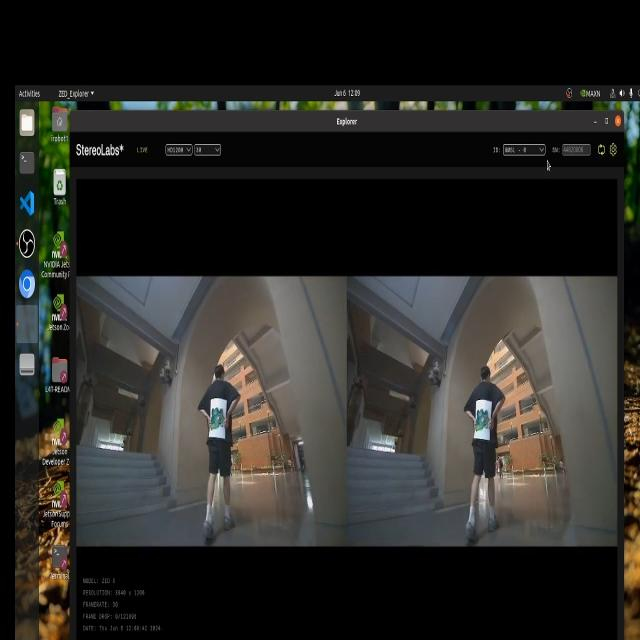green: (476, 408, 494, 436), (211, 404, 225, 435)
